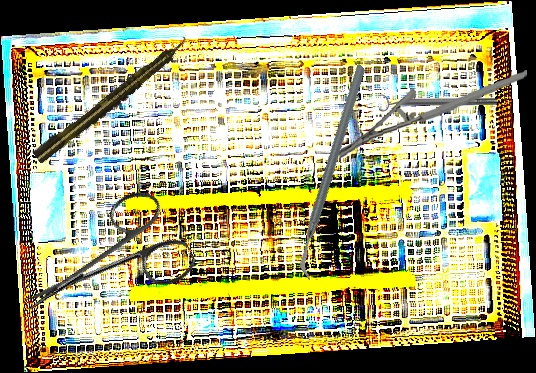Chopper: (230, 63, 437, 282)
Fixation Ring: (379, 93, 497, 112)
Handpiece: (31, 33, 193, 166)
Iris Scissors: (3, 181, 201, 351)
Needle Holder: (332, 70, 533, 160)
